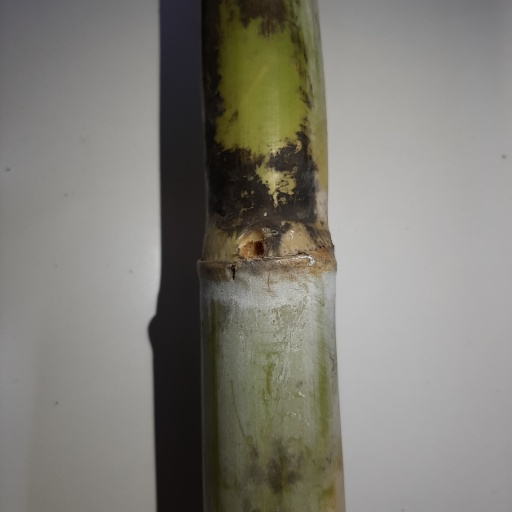Damage_Bud: (239, 226, 267, 263)
